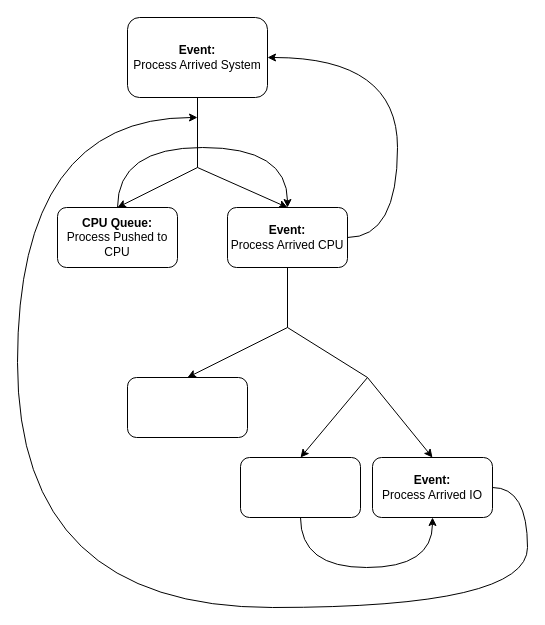
Image size: 545x625. Some labels were removed from this diagram. Each missing label, with the centre of its shape:
Event: Process Exited System: the point at 187,407
IO Queue: Process Pushed to IO Queue: the point at 300,487
